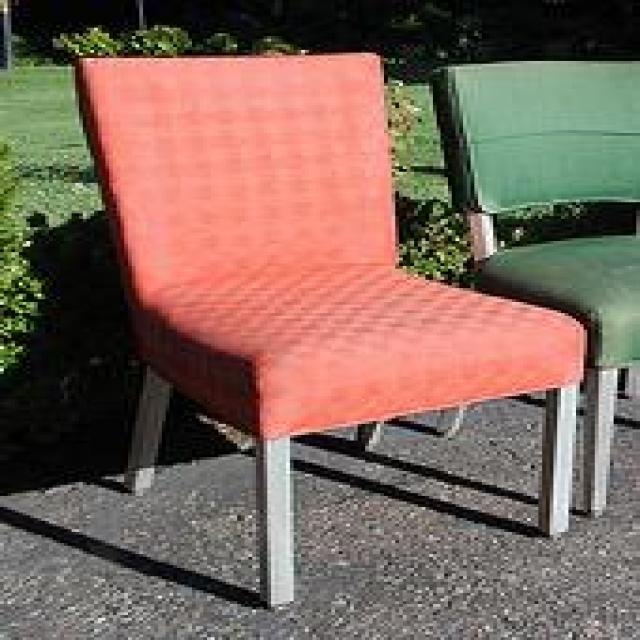chair: (72, 50, 588, 607), (425, 56, 640, 518)
